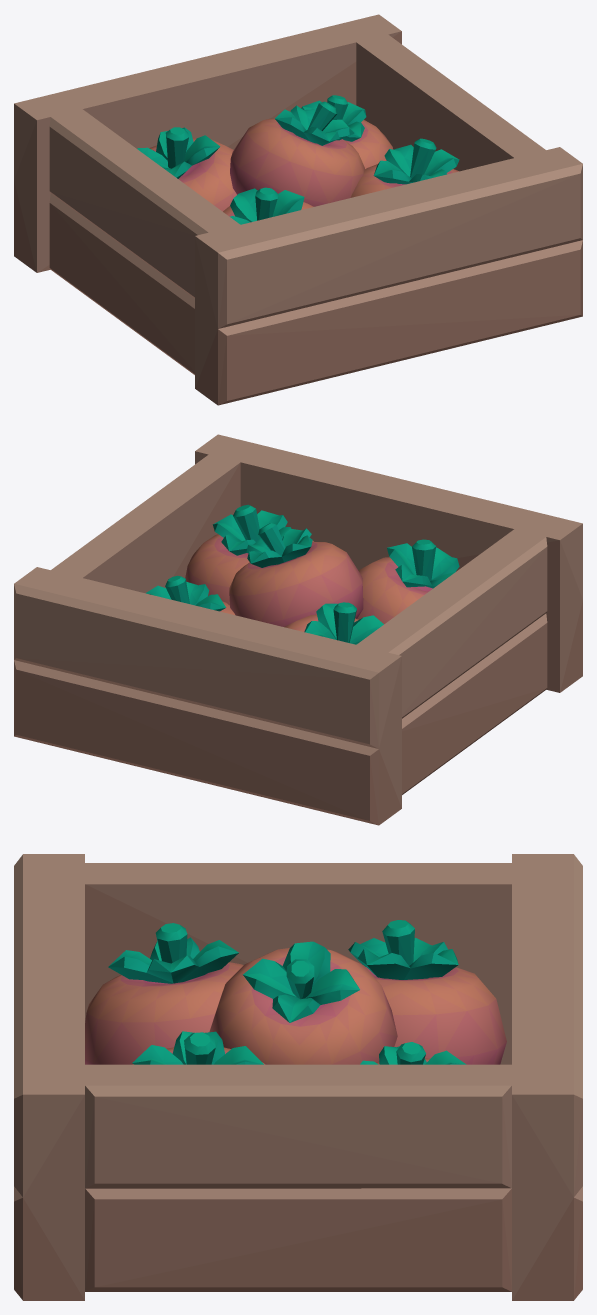
File: caixote_tomate.fbx
3 renders of one model, top to bottom at view 1: azimuth 30°, elevation 25°; view 2: azimuth 150°, elevation 25°; view 3: azimuth 270°, elevation 25°, orthographic. The views are drawn at different scales.
Visible parts, largest first — view 1: crate_tomatoes; view 2: crate_tomatoes; view 3: crate_tomatoes.
Boxes of the visible parts, x1,y1,x2,y2 form: crate_tomatoes: [14, 14, 582, 405]; crate_tomatoes: [14, 434, 582, 825]; crate_tomatoes: [14, 854, 582, 1300].
Size of the model in its own units: 200 by 92.33 by 200.
